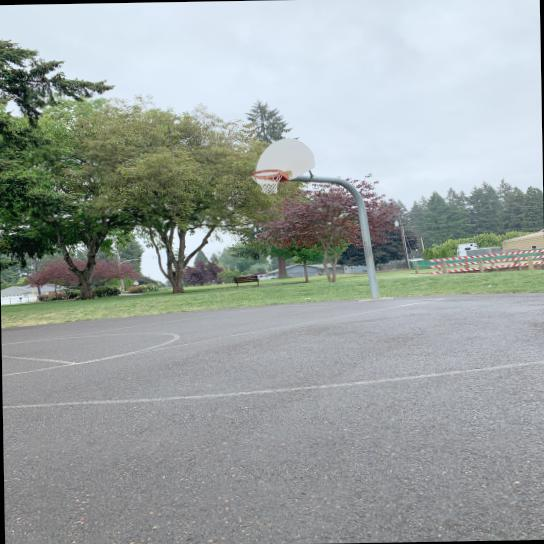basketball-hoop: (250, 168, 284, 194)
